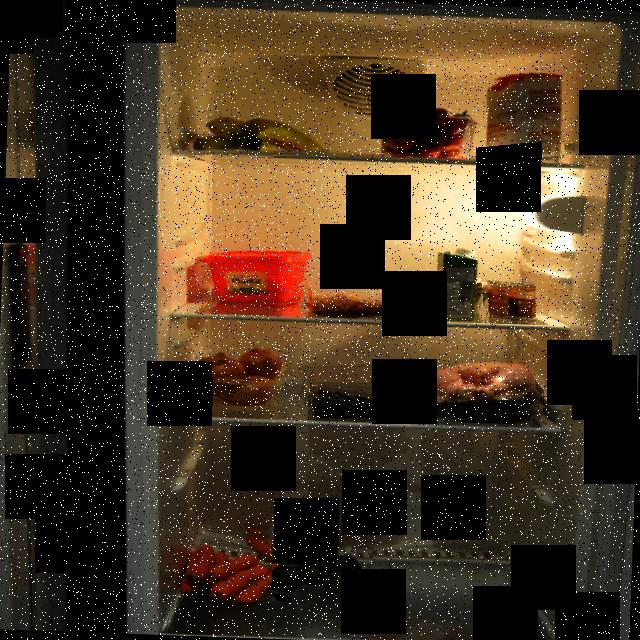banana: (189, 115, 330, 159)
blueberries: (308, 382, 388, 418)
butter: (198, 248, 312, 308)
carrot: (176, 522, 292, 602)
chicken: (418, 362, 546, 424)
corn: (481, 278, 536, 324)
goat_cheese: (422, 278, 487, 312)
heavy_cream: (436, 248, 480, 321)
lime: (272, 539, 374, 594)
onion: (193, 342, 282, 406)
shrimp: (299, 290, 396, 316)
strawberries: (374, 104, 470, 162)
sugar: (482, 72, 564, 166)
